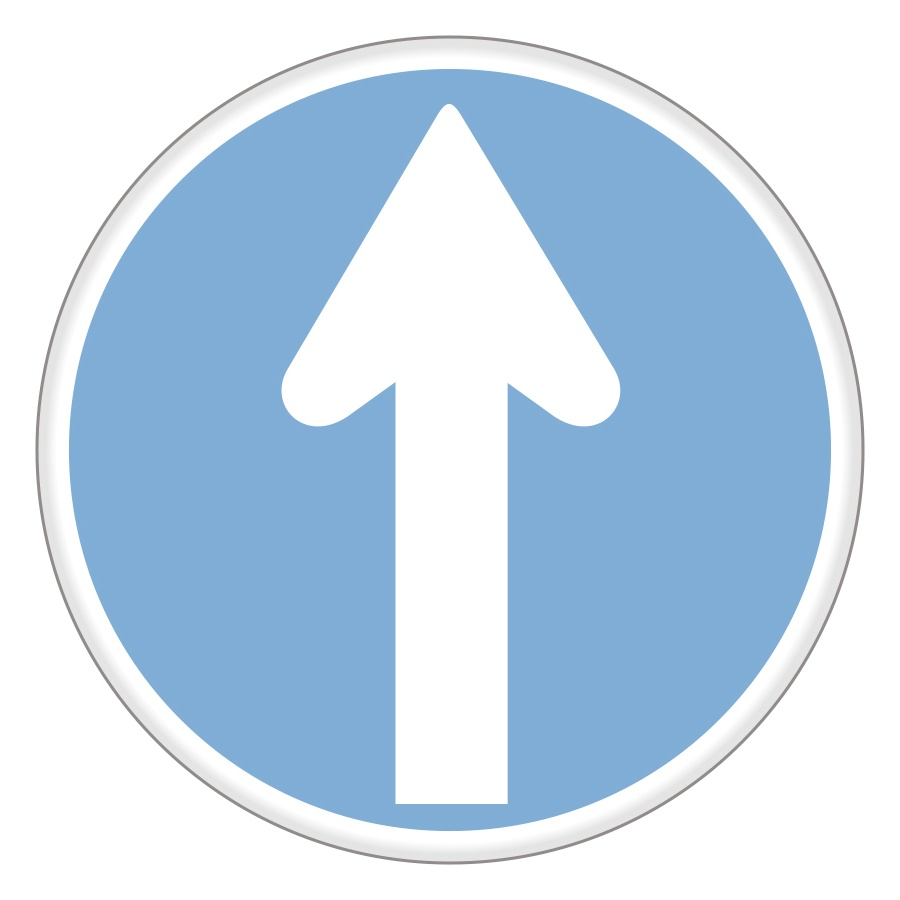Direction_sign: (6, 33, 890, 867)
